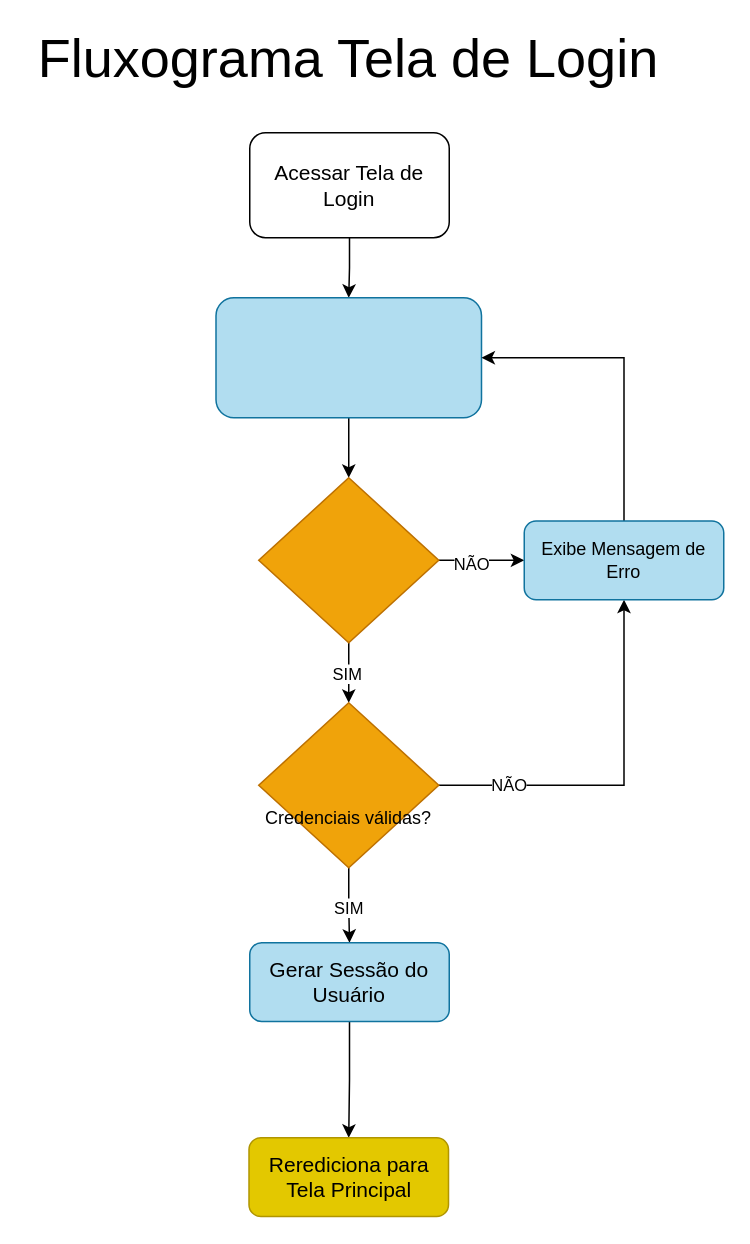
The diagram is 750 pixels wide and 1244 high, and some of its shapes have lost their labels. Here are the shapes that lost their labels. From the top down, the centre of each, then its label:
pixel 348 357: Preencher Credenciais Informar e-mail e senha
pixel 348 559: Campos Preenchidos?
